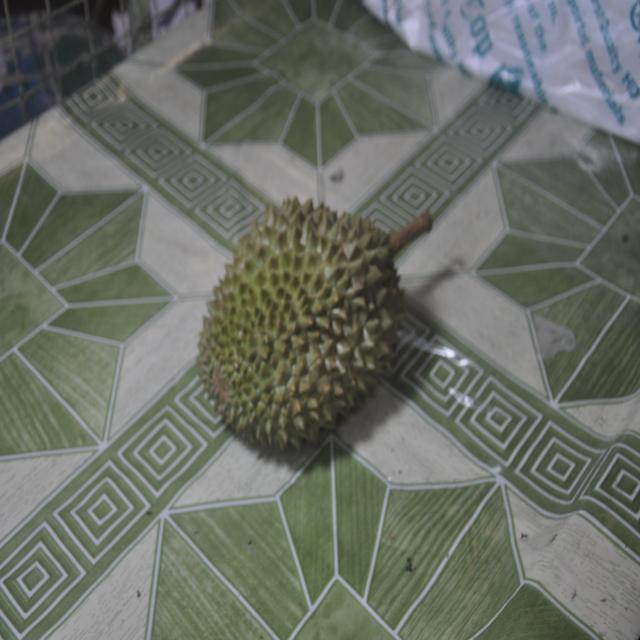mature: (198, 198, 431, 451)
